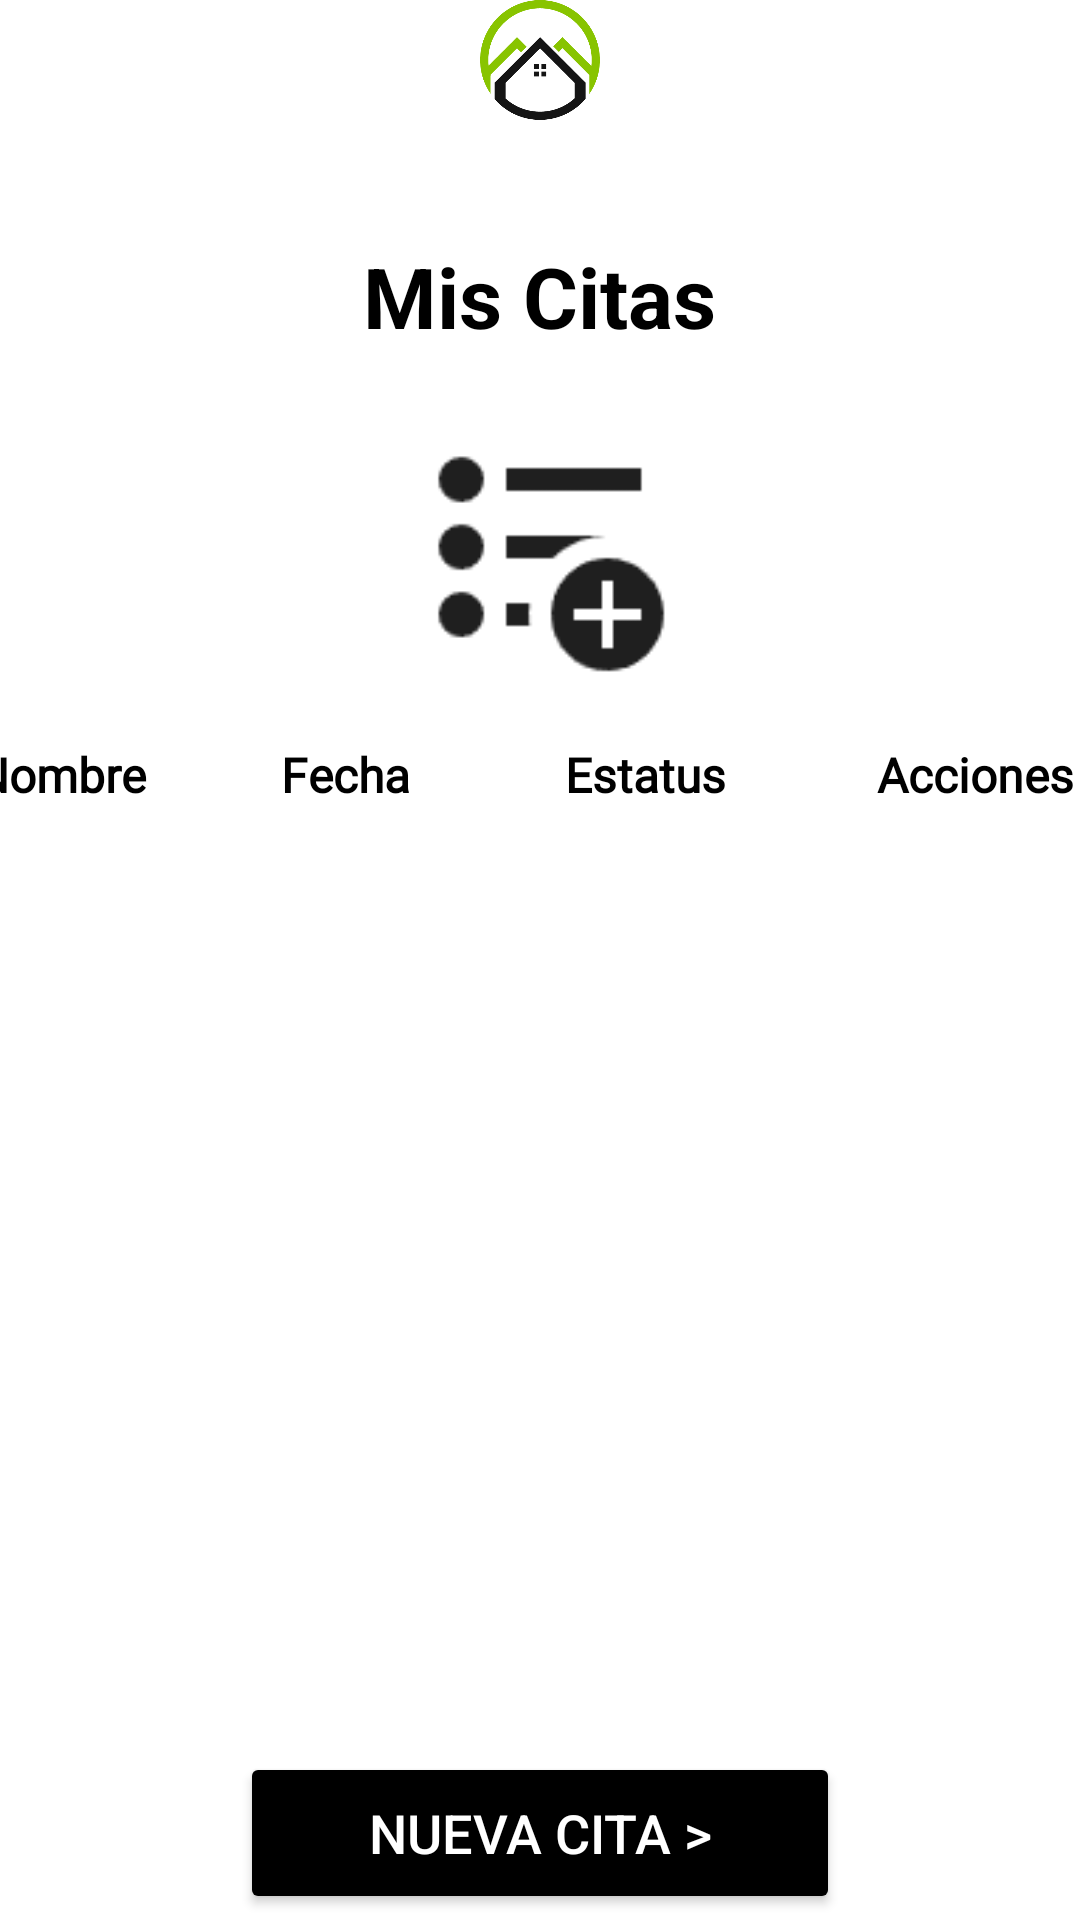

Screen size 1080*1920. Icon name, then its center in pixels as [x,y]:
lista avaluos: [551,564]
